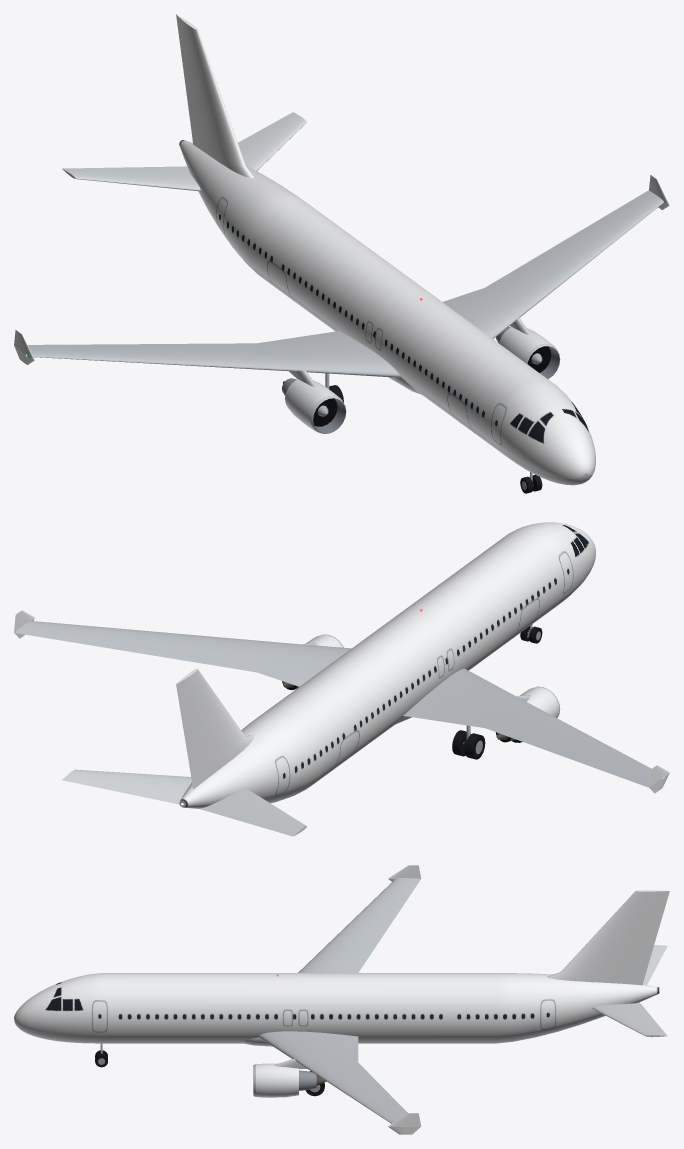
The picture shows the model from 3 angles, top to bottom: view 1: azimuth 30°, elevation 25°; view 2: azimuth 150°, elevation 25°; view 3: azimuth 270°, elevation 25°; orthographic projection. The views are drawn at different scales.
Visible parts, largest first — view 1: body; view 2: body, gear; view 3: body.
Boxes of the visible parts, bbox=[...] form: body: bbox=[14, 14, 669, 485]; body: bbox=[14, 522, 669, 836]; gear: bbox=[452, 624, 542, 759]; body: bbox=[14, 865, 669, 1134].
Bounding box in the file's own units: 34.34 × 11.16 × 38.19.
19 materials, 1 textured.
